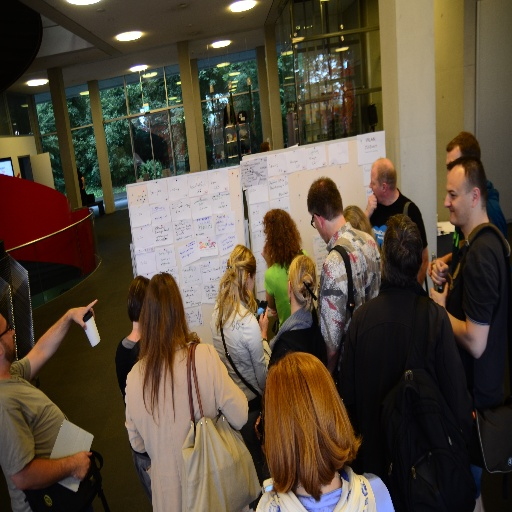hand: (64, 294, 96, 338), (70, 449, 92, 483), (430, 257, 449, 287), (429, 281, 449, 307), (259, 238, 272, 267), (428, 257, 446, 277), (258, 306, 270, 334), (364, 192, 376, 218)
